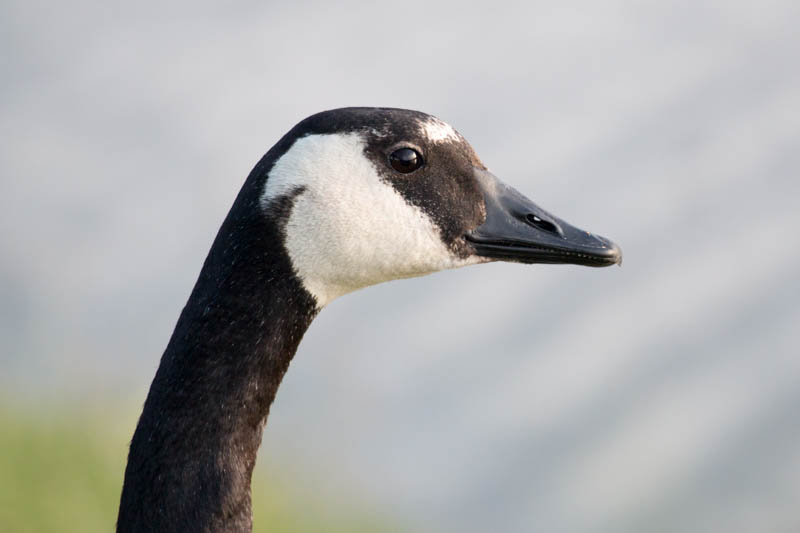goose-head: (234, 105, 622, 312)
